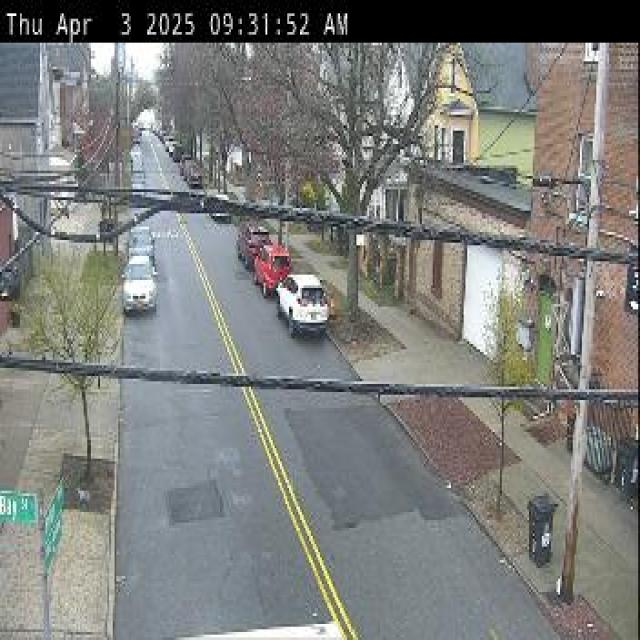open parking: (88, 60, 369, 632)
